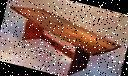Mesa: (0, 3, 125, 75)
